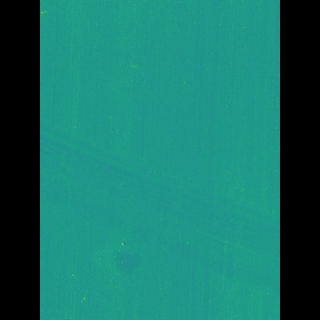Loch: (70, 121, 249, 296), (117, 239, 149, 283)
